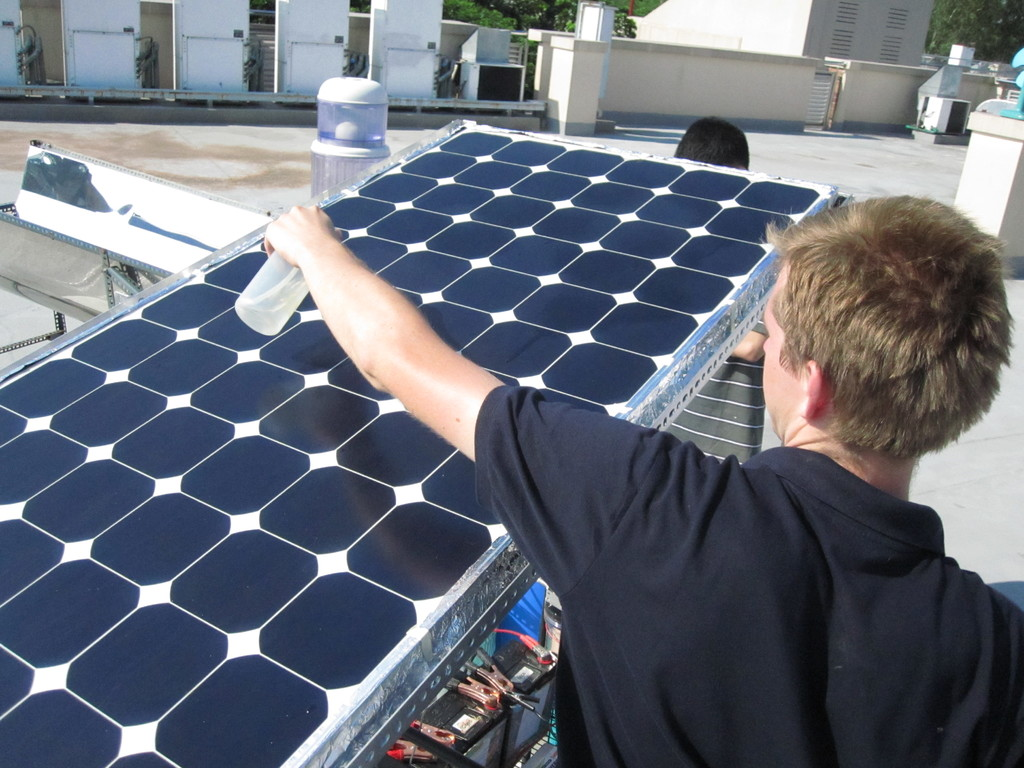Person: (263, 187, 1024, 768), (655, 116, 765, 462)
